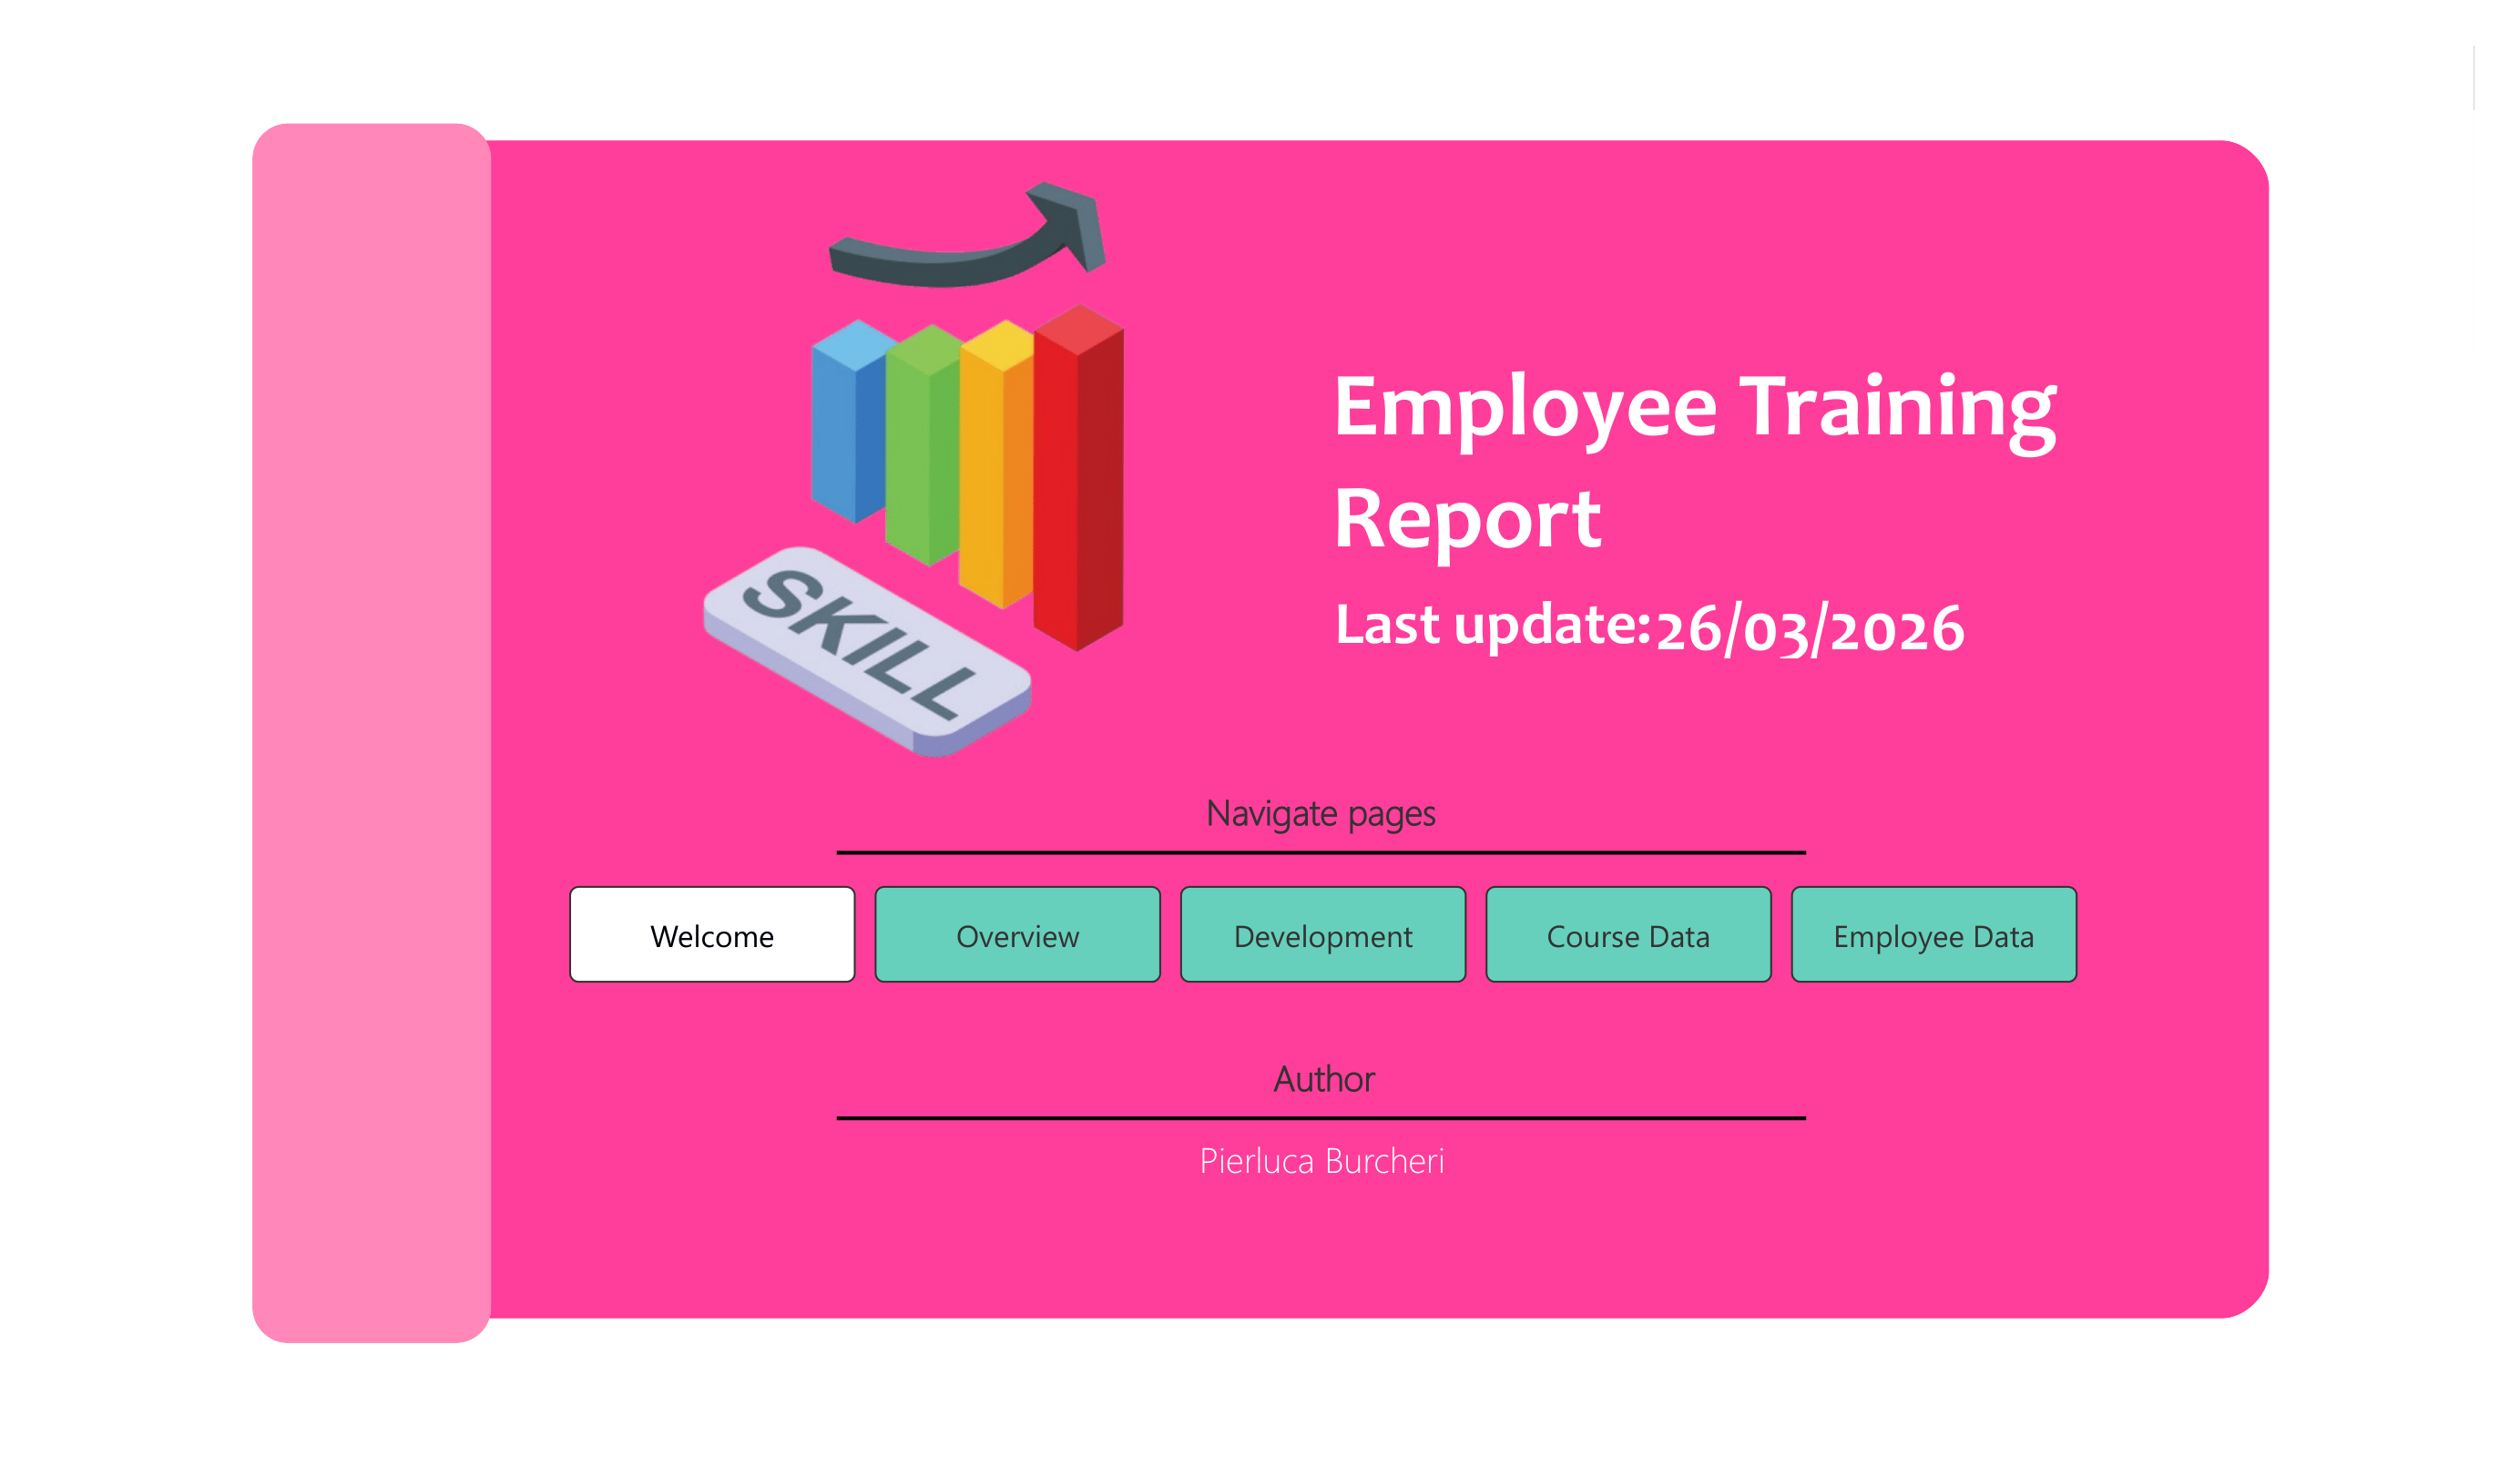

This screenshot's page, from the dashboard's own definition file:
{"tool":"powerbi","page":{"name":"Welcome","canvas":[1280,720],"ordinal":0},"visuals":[{"type":"shape","box":[171.7,50.4,1000.2,620.6],"z":0},{"type":"pageNavigator","box":[275.6,442.6,795.4,52],"z":1000},{"type":"textbox","box":[672.6,154.4,444.2,174.1],"z":2000},{"type":"textbox","box":[573.3,385.9,198.5,37.8],"z":3000},{"type":"shape","box":[417.4,404.8,510.3,41],"z":4000},{"type":"shape","box":[108.7,41,126,642.6],"z":5000},{"type":"textbox","box":[574.9,526.1,198.5,37.8],"z":6000},{"type":"shape","box":[417.4,545,510.3,41],"z":7000},{"type":"textbox","box":[674.1,280.4,223.7,80.3],"z":8000},{"type":"textbox","box":[562.3,568.6,222.1,45.7],"z":9000},{"type":"card","fields":{"Values":["_Date Master.TODAY"]},"box":[840.2,280.3,181.1,47.3],"z":10000},{"type":"image","box":[275.6,50.4,363.7,347],"z":10500}]}

Visuals, with their boxes on the page's 1280x720 design canvas (x1, y1, x2, y2). These are canvas units, not pixel positions in the 2520x1457 screenshot, which may show the page scaled, cropped or inside an application window:
shape: {"left": 172, "top": 50, "right": 1172, "bottom": 671}
pageNavigator: {"left": 276, "top": 443, "right": 1071, "bottom": 495}
textbox: {"left": 673, "top": 154, "right": 1117, "bottom": 328}
textbox: {"left": 573, "top": 386, "right": 772, "bottom": 424}
shape: {"left": 417, "top": 405, "right": 928, "bottom": 446}
shape: {"left": 109, "top": 41, "right": 235, "bottom": 684}
textbox: {"left": 575, "top": 526, "right": 773, "bottom": 564}
shape: {"left": 417, "top": 545, "right": 928, "bottom": 586}
textbox: {"left": 674, "top": 280, "right": 898, "bottom": 361}
textbox: {"left": 562, "top": 569, "right": 784, "bottom": 614}
card - _Date Master.TODAY: {"left": 840, "top": 280, "right": 1021, "bottom": 328}
image: {"left": 276, "top": 50, "right": 639, "bottom": 397}
